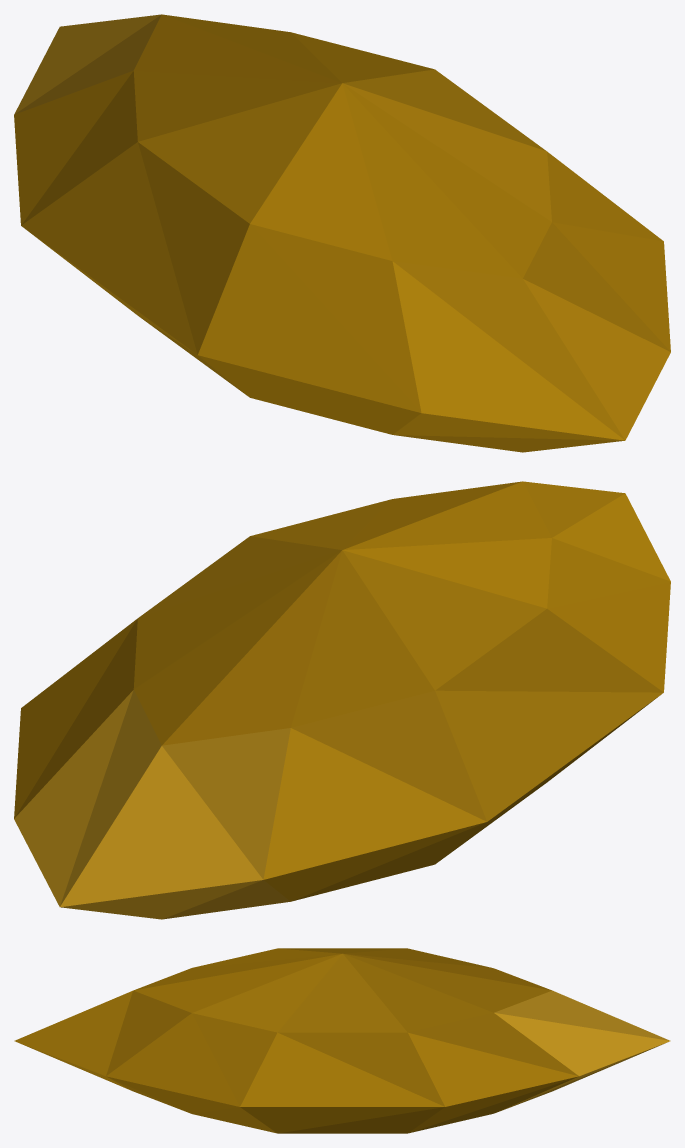
File: prop_treasure_gem_topaz_3.fbx
The picture shows the model from 3 angles, top to bottom: view 1: azimuth 30°, elevation 25°; view 2: azimuth 150°, elevation 25°; view 3: azimuth 270°, elevation 25°; orthographic projection. The views are drawn at different scales.
Parts seen in each view (by area): view 1: prop_treasure_gem_topaz_3; view 2: prop_treasure_gem_topaz_3; view 3: prop_treasure_gem_topaz_3.
Part boxes in pixels (box(x1,y1,x2,y2)): prop_treasure_gem_topaz_3: box(14, 14, 670, 452); prop_treasure_gem_topaz_3: box(14, 481, 670, 919); prop_treasure_gem_topaz_3: box(14, 948, 670, 1133).
Bounding box in the file's own units: 0.2791 × 0.1719 × 0.5865.
